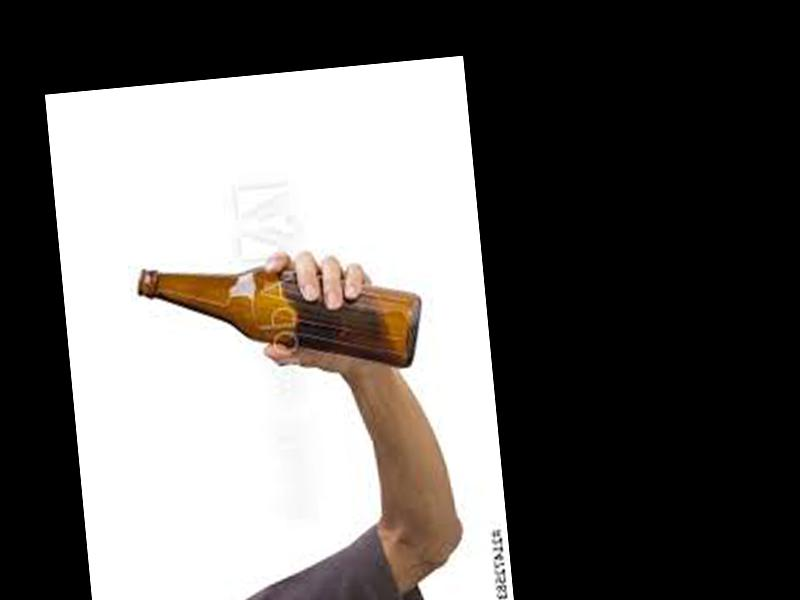Beer: (134, 241, 427, 392)
